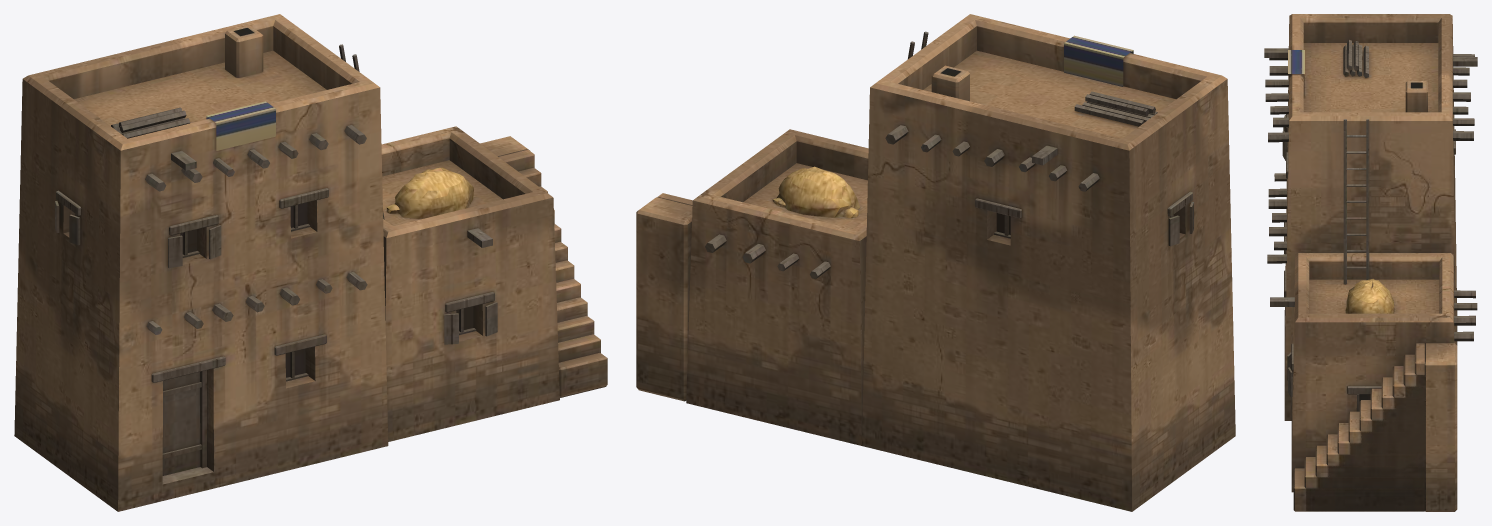
3 renders of one model, left to right at view 1: azimuth 30°, elevation 25°; view 2: azimuth 150°, elevation 25°; view 3: azimuth 270°, elevation 25°, orthographic. The views are drawn at different scales.
Parts seen in each view (by area): view 1: vh_h50b; view 2: vh_h50b; view 3: vh_h50b.
Part boxes in pixels (x1,y1,x2,y2): vh_h50b: (14,14,607,511); vh_h50b: (636,14,1235,511); vh_h50b: (1264,14,1477,511).
Size of the model in its own units: 9.57 by 6.8 by 4.25.
Materials: 1 (1 with a texture image).
